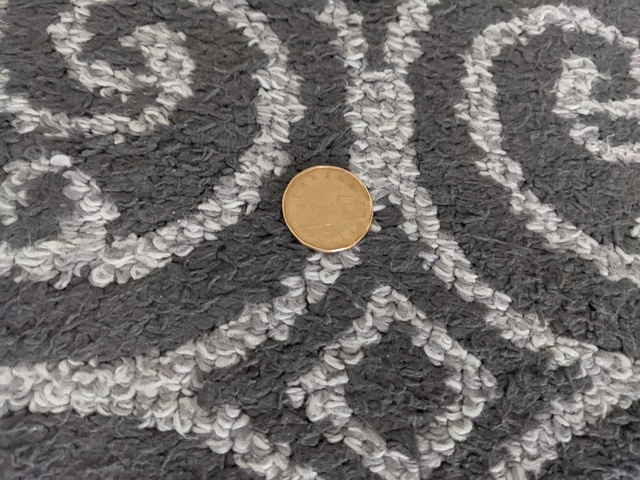loonie: (275, 157, 382, 255)
